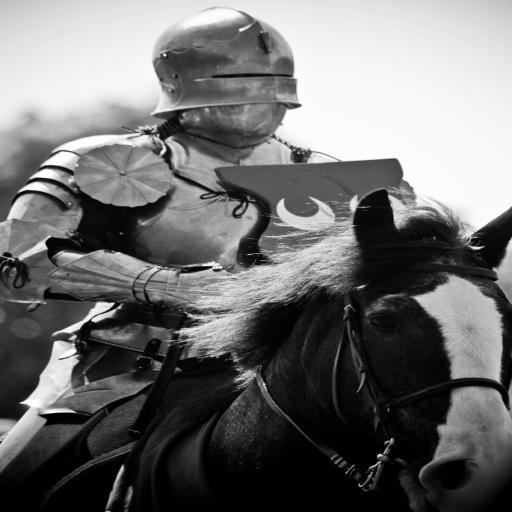Horse: (88, 184, 511, 512)
